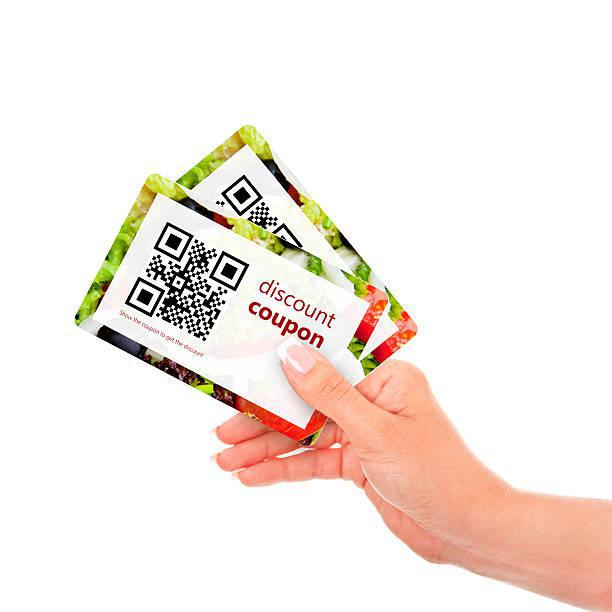Finder pattern: (121, 274, 166, 320), (219, 175, 264, 220), (151, 221, 196, 266), (209, 249, 250, 293)
